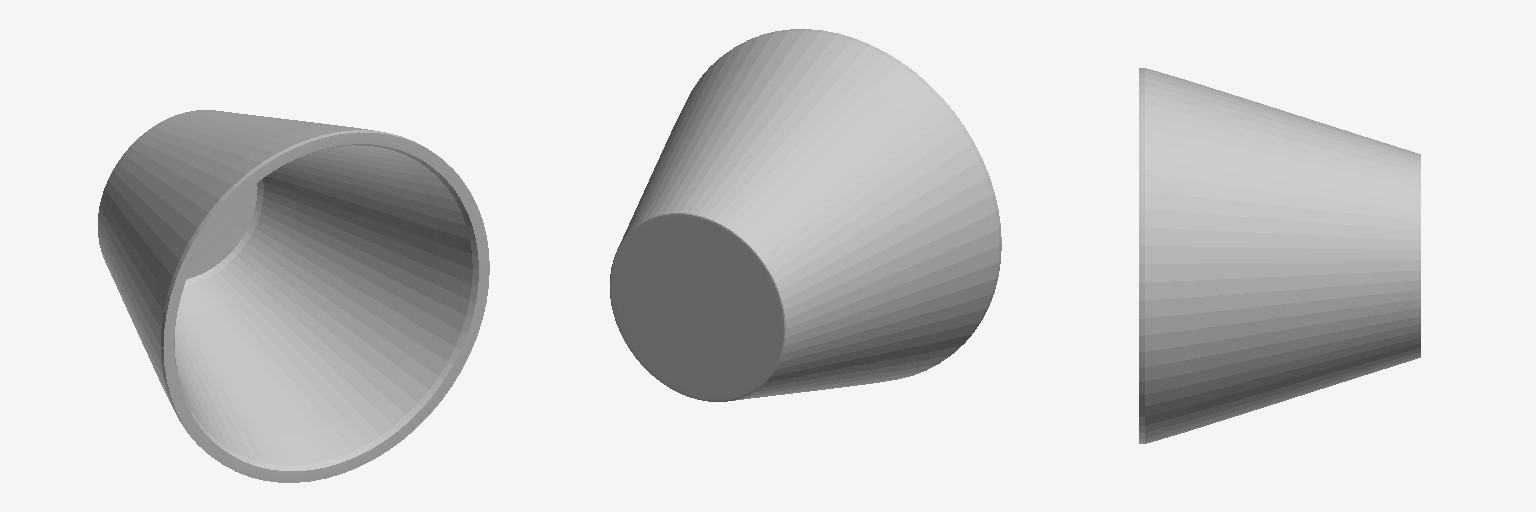
The model's file is keurig_hold.obj.
3 views of the same model, side by side, from view 1: azimuth 30°, elevation 25°; view 2: azimuth 150°, elevation 25°; view 3: azimuth 270°, elevation 25° (orthographic).
Visible parts, largest first — view 1: Cylinder; view 2: Cylinder; view 3: Cylinder.
Boxes of the visible parts, x1,y1,x2,y2 form: Cylinder: [98, 110, 489, 482]; Cylinder: [610, 29, 1001, 401]; Cylinder: [1139, 68, 1420, 443].
Size of the model in its own units: 0.0619 by 0.0619 by 0.0464.